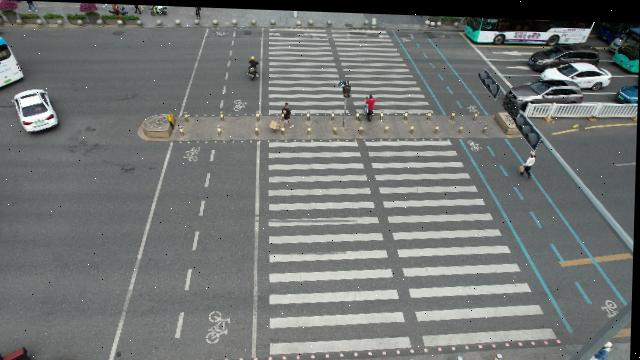non-motor-vehicle: (246, 54, 261, 77), (364, 93, 376, 119)
person: (520, 145, 539, 174), (280, 100, 293, 125)
